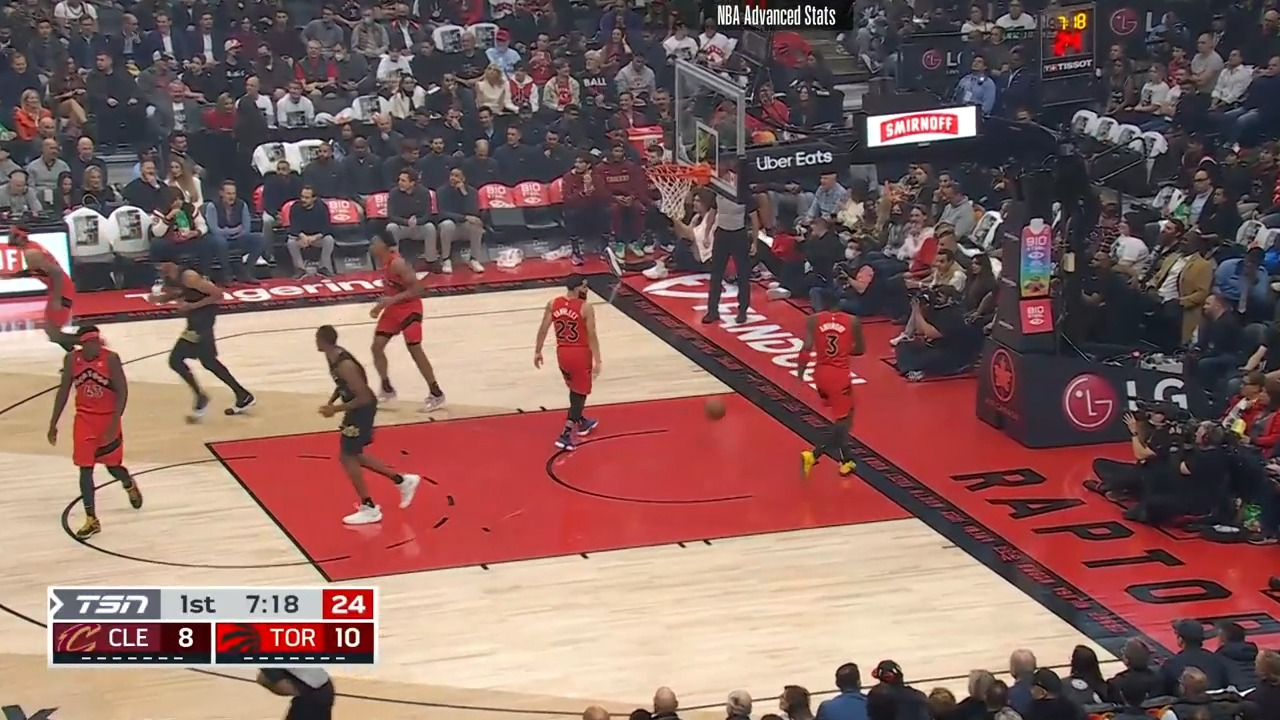net: (650, 157, 715, 214)
player: (307, 320, 413, 526), (43, 319, 140, 541), (147, 253, 254, 425), (363, 232, 452, 415), (791, 288, 870, 486), (535, 278, 610, 461), (0, 228, 80, 375)
referee: (699, 178, 764, 329)
